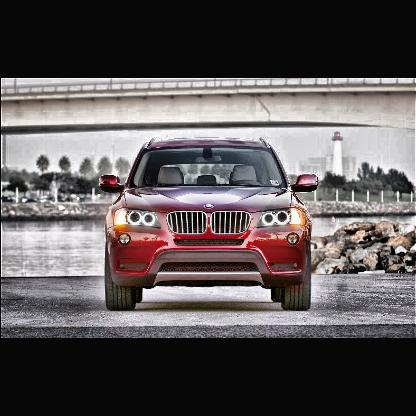BMW X3 SUV 2012: (100, 138, 320, 312)
